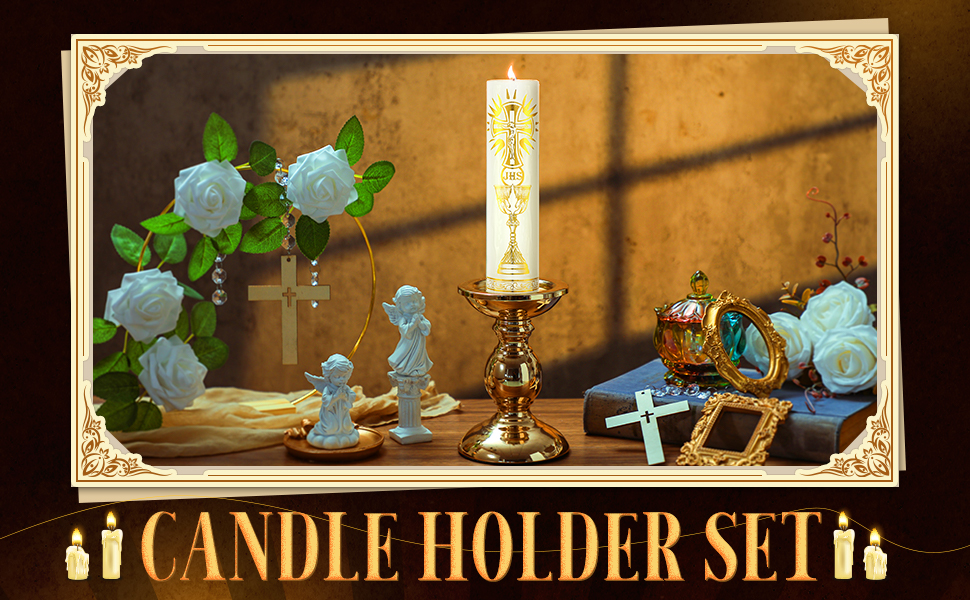Open-Flame-Hazard: (450, 57, 584, 462)
